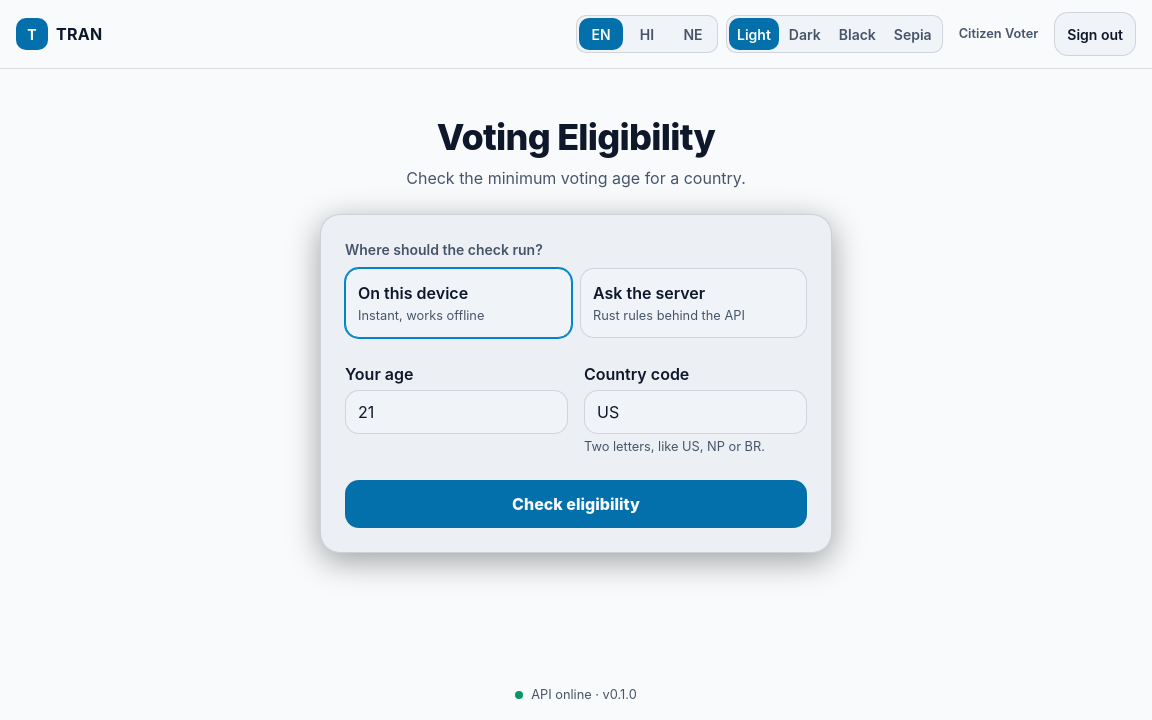
Test case: App: on this device › declares a minor not eligible
The image size is (1152, 720).
Expected: the text "API online · v0.1.0" is shown, [515, 686, 637, 704]
Replace the text in the field labelled "Your age" with "17". click: coordinates (456, 412)
box: [345, 390, 568, 434]
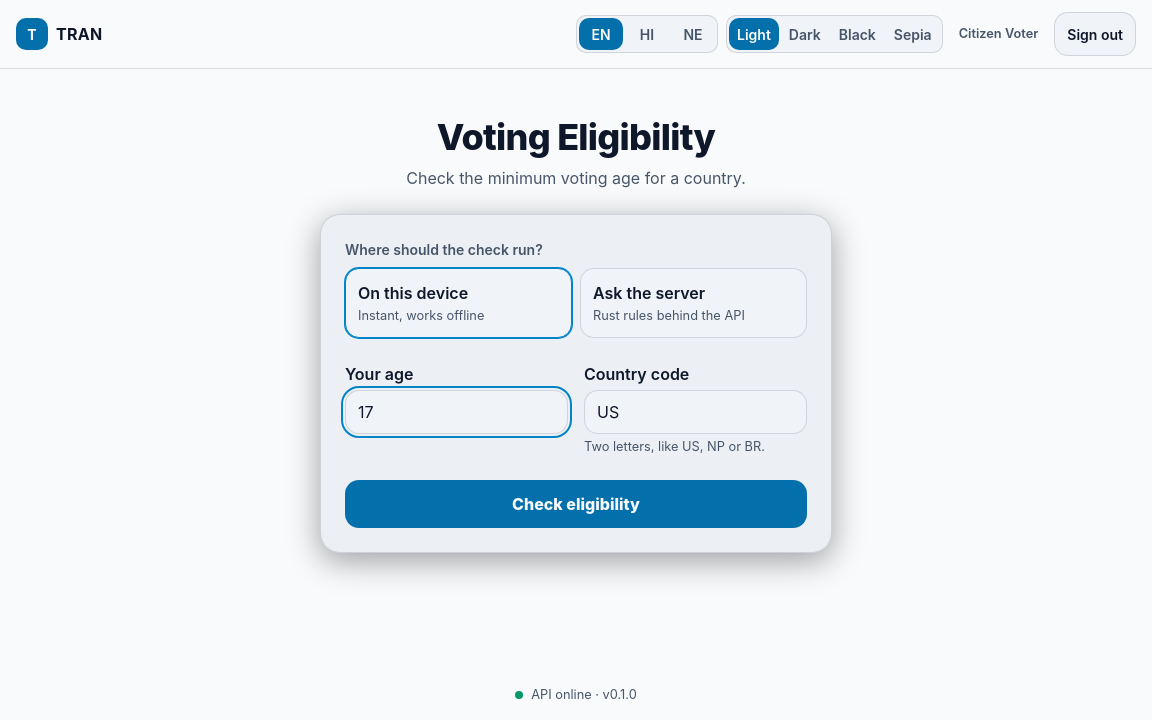
Click the button "Check eligibility". click: coordinates (576, 504)
box: [345, 480, 807, 528]
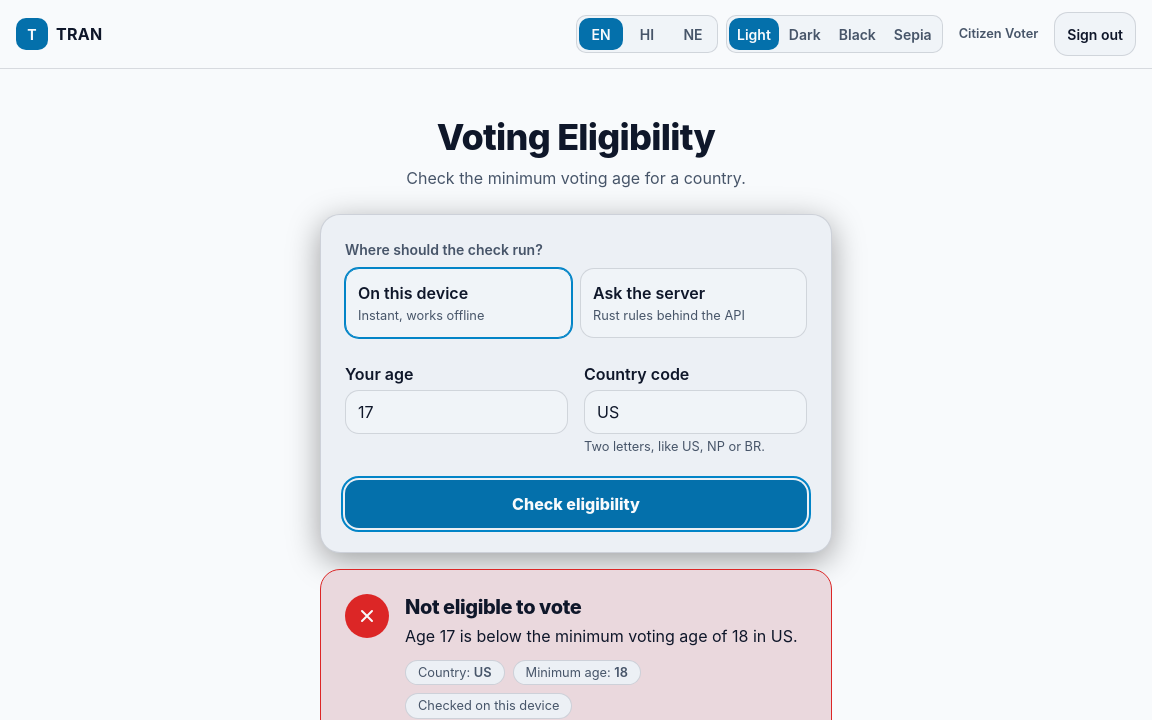
Now the heading "Not eligible to vote" is shown, box [405, 595, 581, 619]
